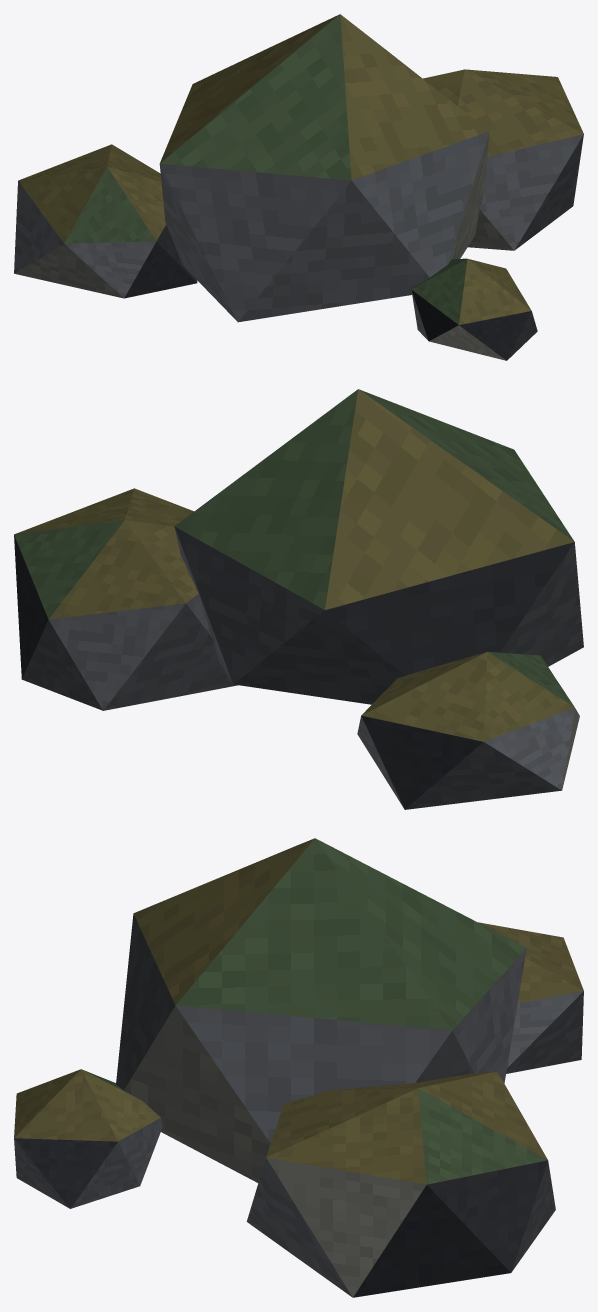
The model's file is rock_cluster.glb.
3 views of the same model, one above another, from view 1: azimuth 30°, elevation 25°; view 2: azimuth 150°, elevation 25°; view 3: azimuth 270°, elevation 25° (orthographic). The views are drawn at different scales.
Visible parts, largest first — view 1: rock_cluster; view 2: rock_cluster; view 3: rock_cluster.
Boxes of the visible parts, left/top/right/bottom form: rock_cluster: left=14, top=14, right=583, bottom=360; rock_cluster: left=14, top=389, right=583, bottom=809; rock_cluster: left=14, top=838, right=583, bottom=1297.
Size of the model in its own units: 2.88 by 1.4 by 2.29.
1 material, 1 textured.
